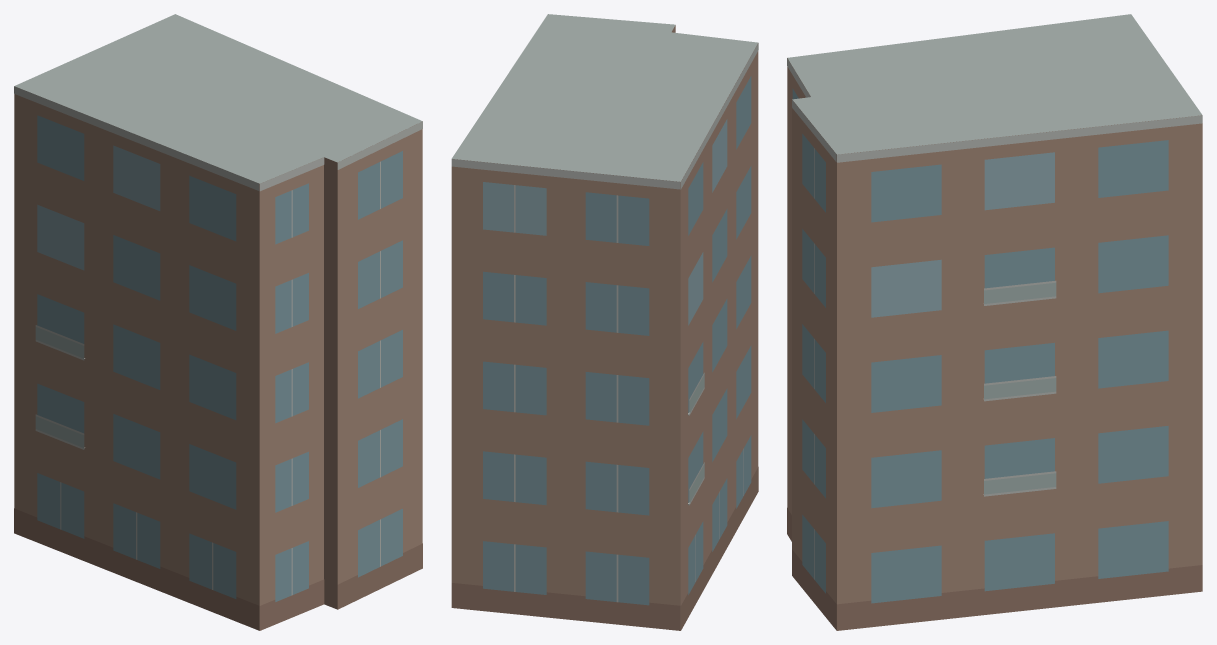
The model's file is survey-upis-32768170.glb.
3 renders of one model, left to right at view 1: azimuth 30°, elevation 25°; view 2: azimuth 150°, elevation 25°; view 3: azimuth 270°, elevation 25°, orthographic. The views are drawn at different scales.
Visible parts, largest first — view 1: survey-upis-32768170.tmp; view 2: survey-upis-32768170.tmp; view 3: survey-upis-32768170.tmp.
Part boxes in pixels (x1=…): survey-upis-32768170.tmp: x1=14, y1=14, x2=422, y2=630; survey-upis-32768170.tmp: x1=451, y1=14, x2=758, y2=630; survey-upis-32768170.tmp: x1=787, y1=14, x2=1202, y2=630.
Bounding box in the file's own units: 9 × 14.2 × 11.24.
